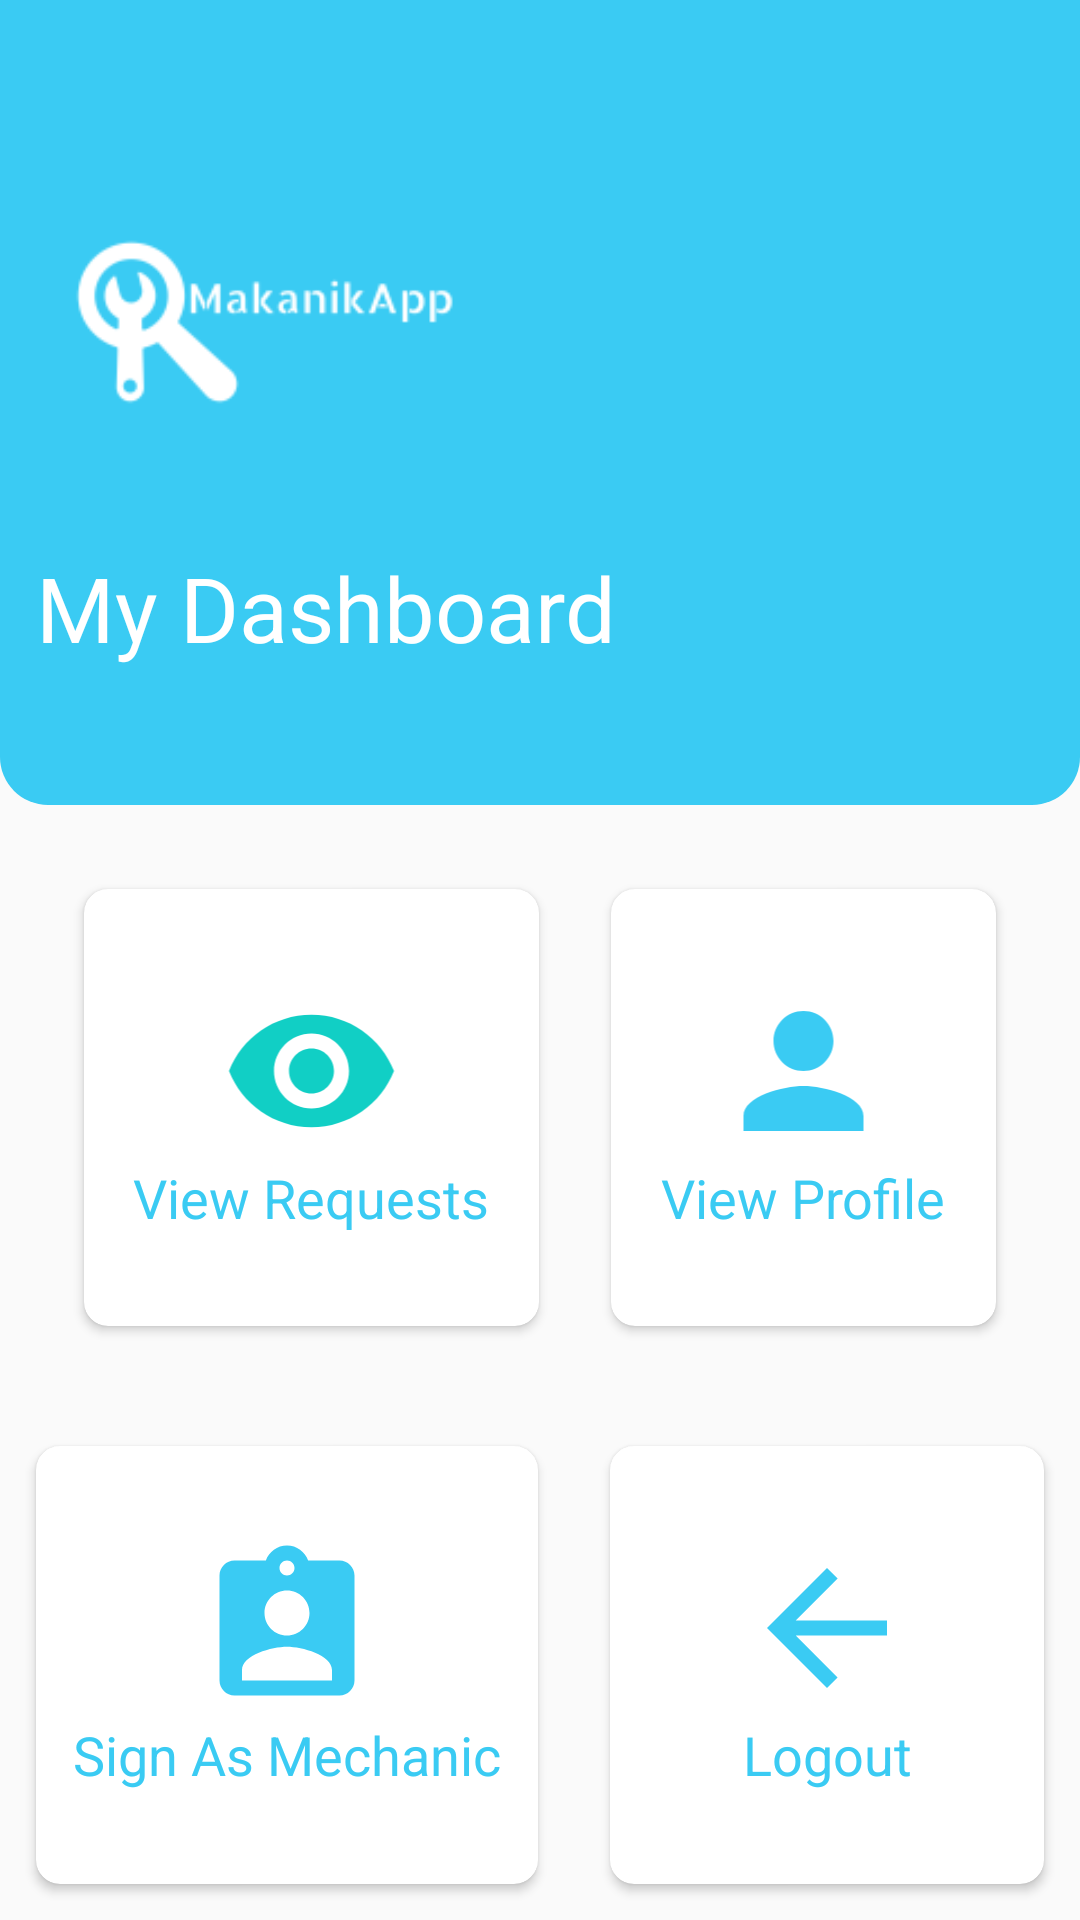

Icon click points for this 1080px x 1920px phone screenshot, format point (x, y):
view my profile: point (803, 1071)
